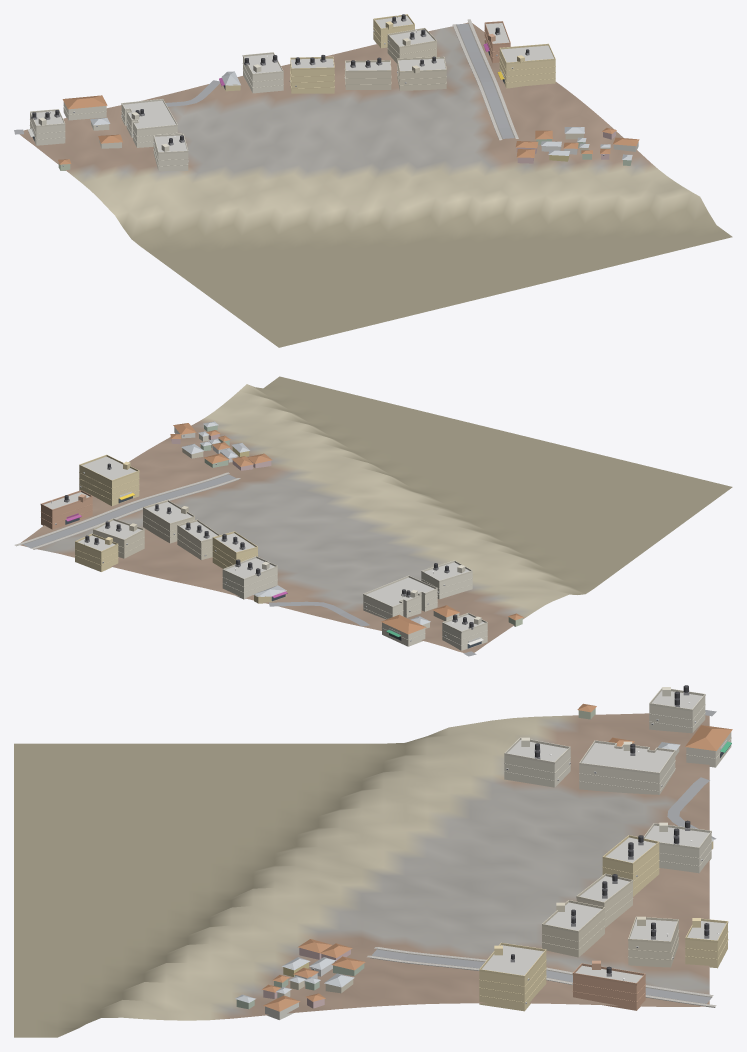
3 renders of one model, top to bottom at view 1: azimuth 30°, elevation 25°; view 2: azimuth 150°, elevation 25°; view 3: azimuth 270°, elevation 25°, orthographic. The views are drawn at different scales.
Parts seen in each view (by area): view 1: Terrain-col, Buildings-col, Details, Roads-col, Sidewalks-col; view 2: Terrain-col, Buildings-col, Details, Roads-col, Sidewalks-col; view 3: Terrain-col, Buildings-col, Details, Roads-col, Sidewalks-col.
Boxes of the visible parts, left/top/right/bottom form: Terrain-col: left=20, top=22, right=732, bottom=347; Buildings-col: left=30, top=16, right=639, bottom=170; Details: left=28, top=14, right=604, bottom=166; Roads-col: left=14, top=23, right=514, bottom=138; Sidewalks-col: left=452, top=19, right=518, bottom=140; Terrain-col: left=20, top=376, right=732, bottom=652; Buildings-col: left=41, top=421, right=523, bottom=650; Details: left=40, top=435, right=487, bottom=648; Roads-col: left=23, top=474, right=476, bottom=656; Sidewalks-col: left=14, top=472, right=240, bottom=549; Terrain-col: left=14, top=713, right=709, bottom=1037; Buildings-col: left=235, top=690, right=732, bottom=1019; Details: left=312, top=685, right=731, bottom=1003; Roads-col: left=371, top=710, right=716, bottom=1003; Sidewalks-col: left=367, top=947, right=716, bottom=1007.
Bounding box in the file's own units: 264 × 29.64 × 265.
